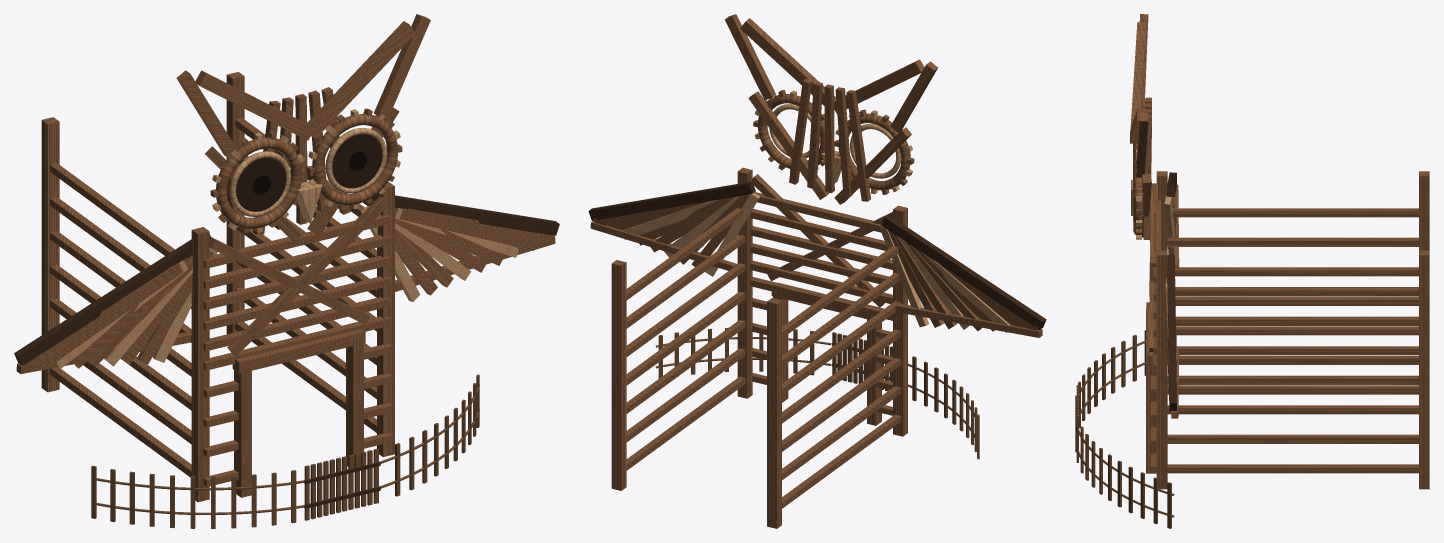
The model's file is props_p10__p10_wood_owl.glb.
The picture shows the model from 3 angles, left to right: view 1: azimuth 30°, elevation 25°; view 2: azimuth 150°, elevation 25°; view 3: azimuth 270°, elevation 25°; orthographic projection. The views are drawn at different scales.
Visible parts, largest first — view 1: reference_static_surfaces (×4), owl_iris (×2); view 2: reference_static_surfaces (×4); view 3: reference_static_surfaces (×4).
Boxes of the visible parts, bbox=[...] form: reference_static_surfaces (×4): bbox=[14, 14, 559, 528]; owl_iris (×2): bbox=[236, 134, 382, 211]; reference_static_surfaces (×4): bbox=[588, 14, 1046, 528]; reference_static_surfaces (×4): bbox=[1076, 14, 1429, 528].
Bounding box in the file's own units: 13.74 × 10.67 × 8.92.
Materials: 24 (2 with a texture image).
